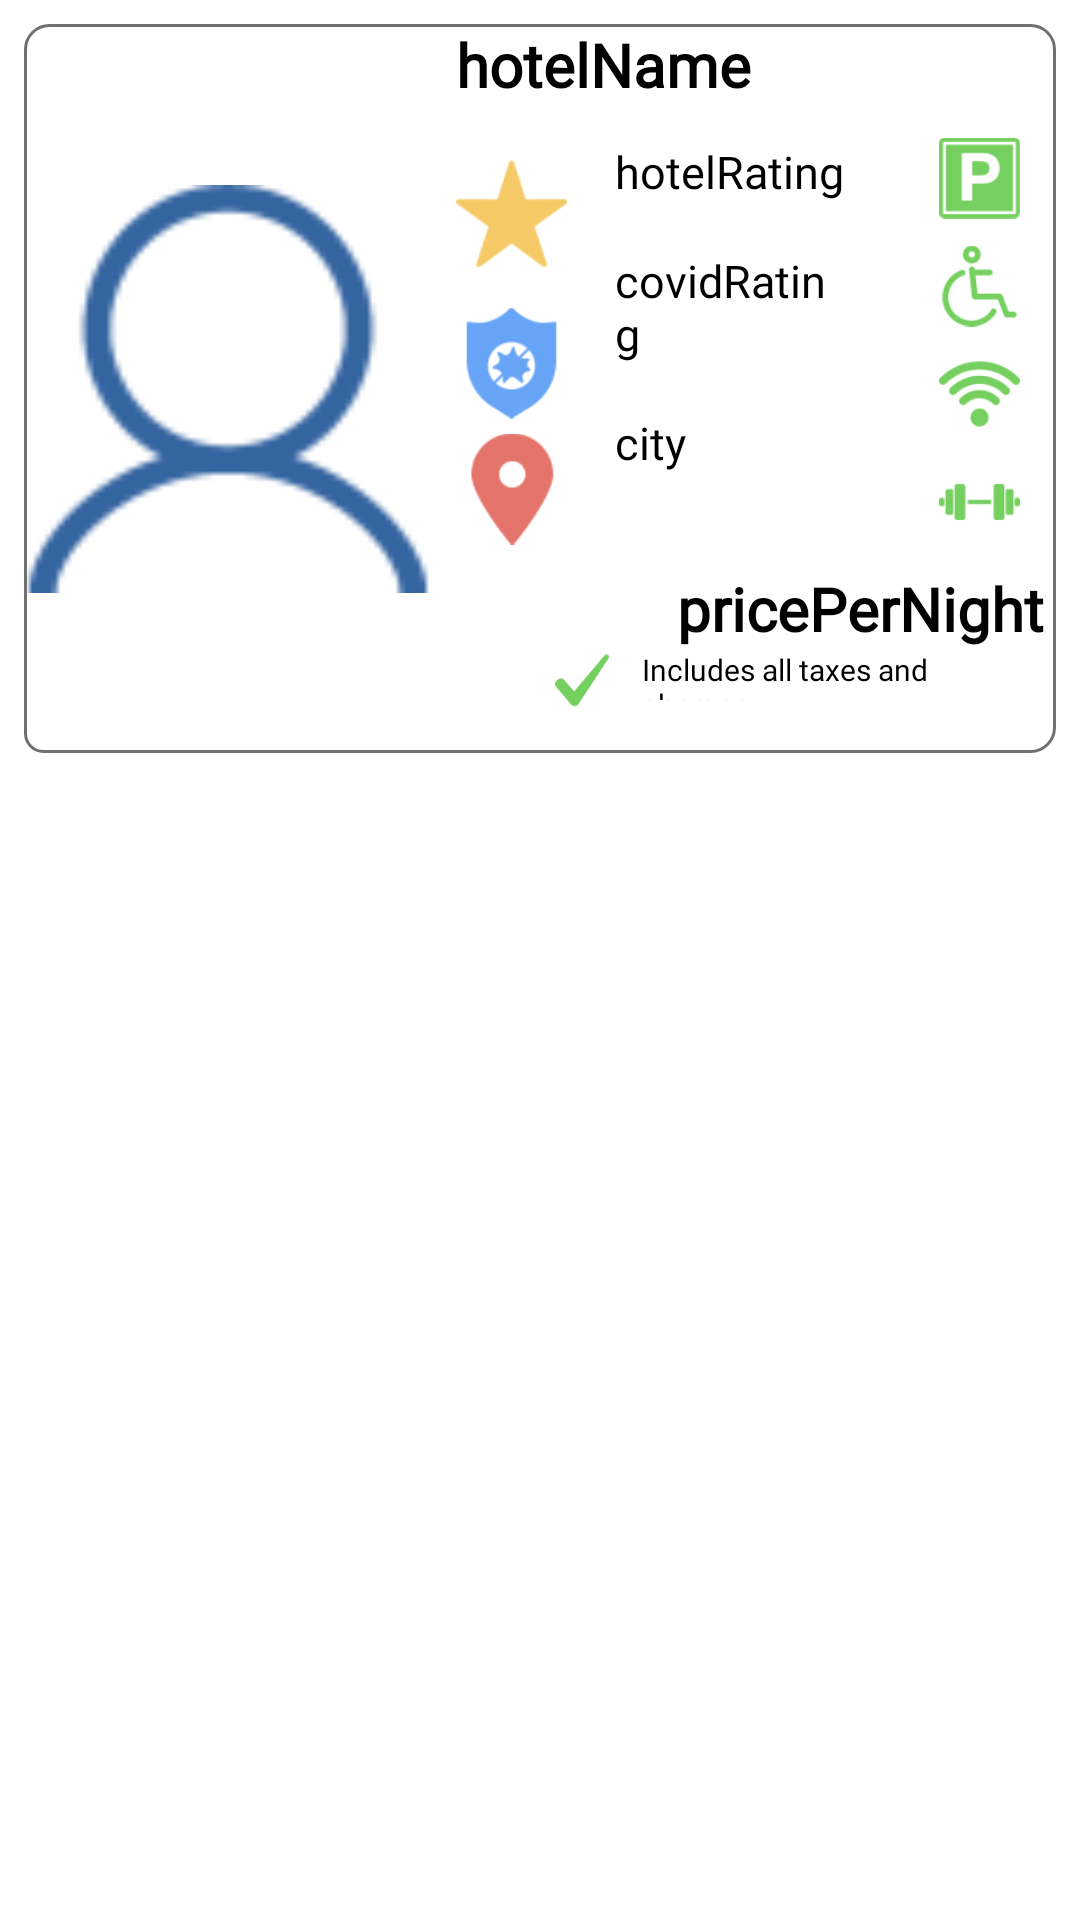

Named icons in this screenshot (1080w x 1920h) and their centers, [x,y]:
check: [582,680]
gym: [979,502]
location: [512,489]
parking: [979,178]
shield: [511,363]
star: [511,213]
wheelchair: [979,286]
wifi: [979,394]
